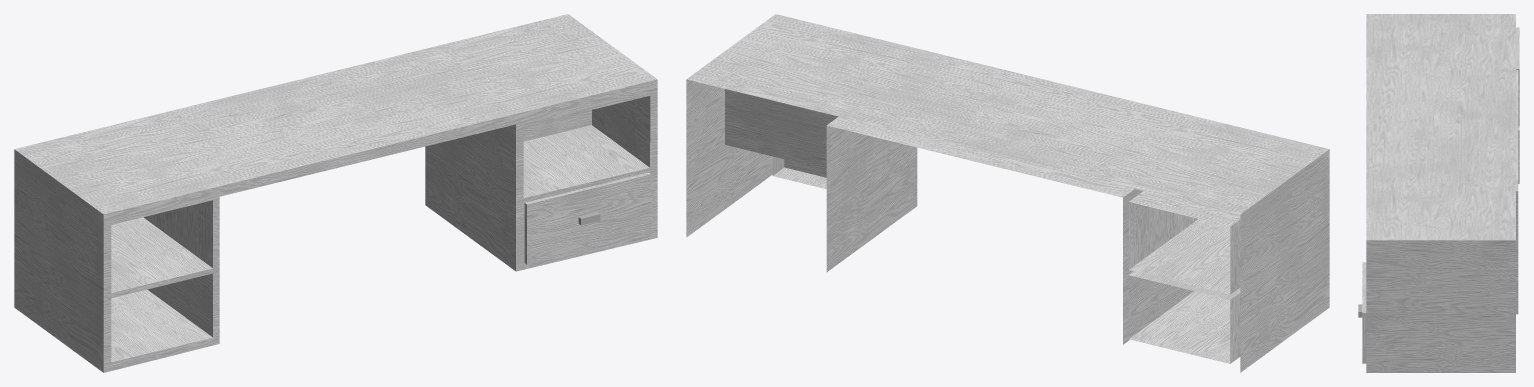
Rendered from Desk.fbx.
3 renders of one model, left to right at view 1: azimuth 30°, elevation 25°; view 2: azimuth 150°, elevation 25°; view 3: azimuth 270°, elevation 25°, orthographic. The views are drawn at different scales.
Parts seen in each view (by area): view 1: Desk; view 2: Desk; view 3: Desk.
Boxes of the visible parts, x1=… form: Desk: x1=14, y1=14, x2=657, y2=372; Desk: x1=686, y1=14, x2=1329, y2=372; Desk: x1=1362, y1=14, x2=1519, y2=372.
Size of the model in its own units: 3294 by 900 by 994.
2 materials, 2 textured.
